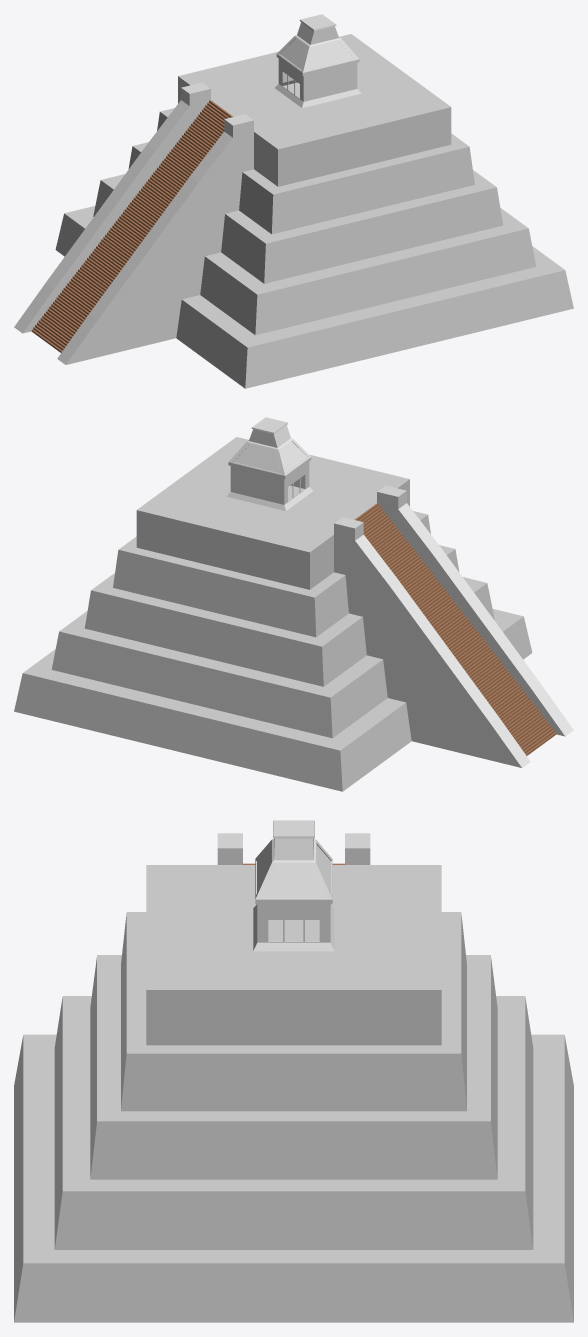
The model's file is TemploMenorNuevo.fbx.
The picture shows the model from 3 angles, top to bottom: view 1: azimuth 30°, elevation 25°; view 2: azimuth 150°, elevation 25°; view 3: azimuth 270°, elevation 25°; orthographic projection. The views are drawn at different scales.
Visible parts, largest first — view 1: Cube.033; view 2: Cube.033; view 3: Cube.033.
Part boxes in pixels (x1=…): Cube.033: x1=14, y1=14, x2=573, y2=388; Cube.033: x1=14, y1=417, x2=573, y2=791; Cube.033: x1=14, y1=820, x2=573, y2=1322.
Size of the model in its own units: 73.49 by 41.01 by 55.
